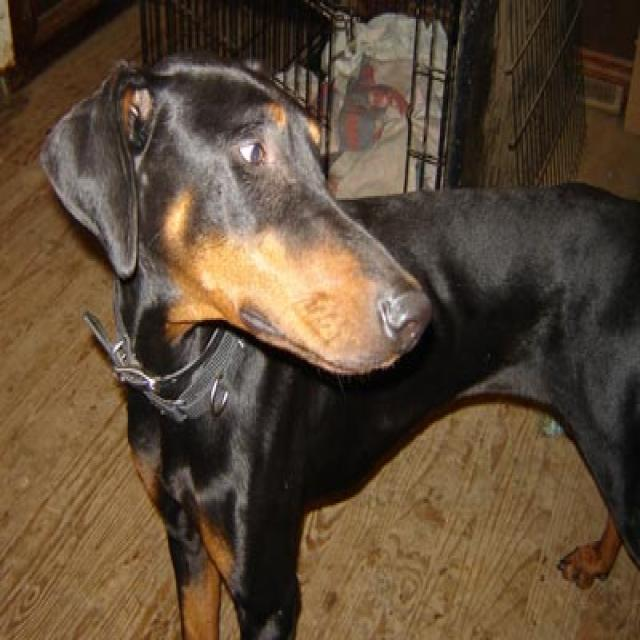Dogs: (37, 46, 638, 638)
